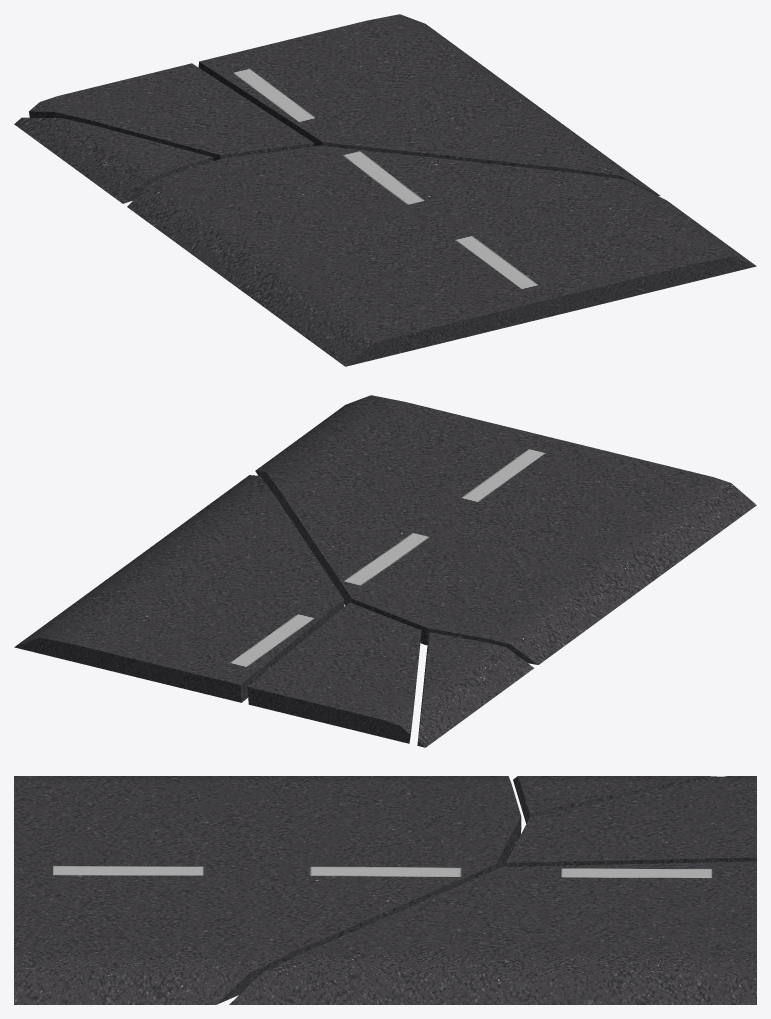
File: RoadA.fbx
3 renders of one model, top to bottom at view 1: azimuth 30°, elevation 25°; view 2: azimuth 150°, elevation 25°; view 3: azimuth 270°, elevation 25°, orthographic. The views are drawn at different scales.
Parts seen in each view (by area): view 1: Cube_2_fracturepart1; view 2: Cube_2_fracturepart1; view 3: Cube_2_fracturepart1.
Part boxes in pixels (bbox=[...]): Cube_2_fracturepart1: bbox=[14, 14, 756, 366]; Cube_2_fracturepart1: bbox=[14, 395, 756, 747]; Cube_2_fracturepart1: bbox=[14, 776, 756, 1004].
Bounding box in the file's own units: 625 × 25.45 × 871.
Materials: 1 (1 with a texture image).
